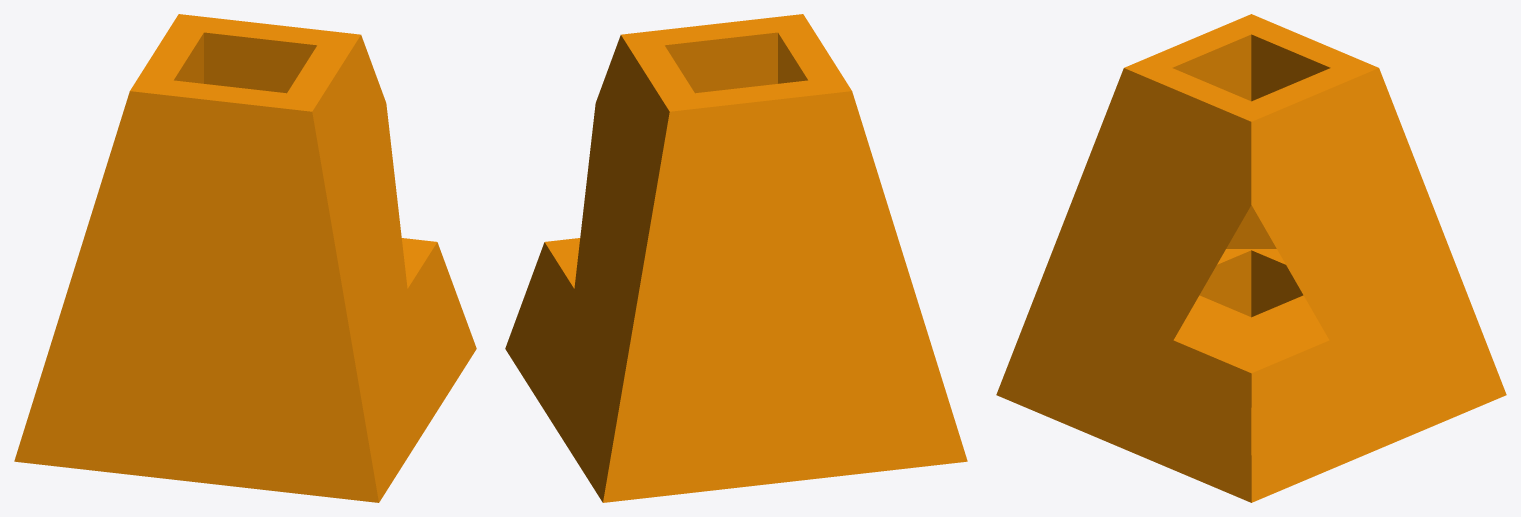
Rendered from var_11.glb.
3 views of the same model, side by side, from view 1: azimuth 30°, elevation 25°; view 2: azimuth 150°, elevation 25°; view 3: azimuth 270°, elevation 25° (orthographic). The views are drawn at different scales.
Visible parts, largest first — view 1: Cube.005; view 2: Cube.005; view 3: Cube.005.
Part boxes in pixels (x1,y1,x2,y2): Cube.005: [14, 14, 476, 502]; Cube.005: [505, 14, 967, 502]; Cube.005: [996, 14, 1506, 502].
Bounding box in the file's own units: 2.83 × 2 × 2.83.
